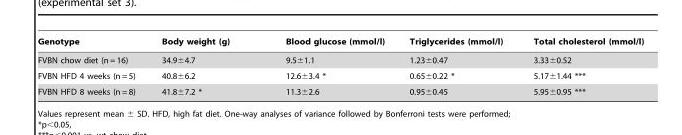table: (37, 36, 643, 95)
table column: (257, 36, 396, 95), (517, 36, 643, 95), (396, 36, 517, 95), (37, 36, 147, 95), (147, 36, 257, 95)
table column header: (37, 36, 643, 50)
table row: (37, 50, 643, 67), (37, 67, 643, 83), (37, 36, 643, 50), (37, 83, 643, 95)
